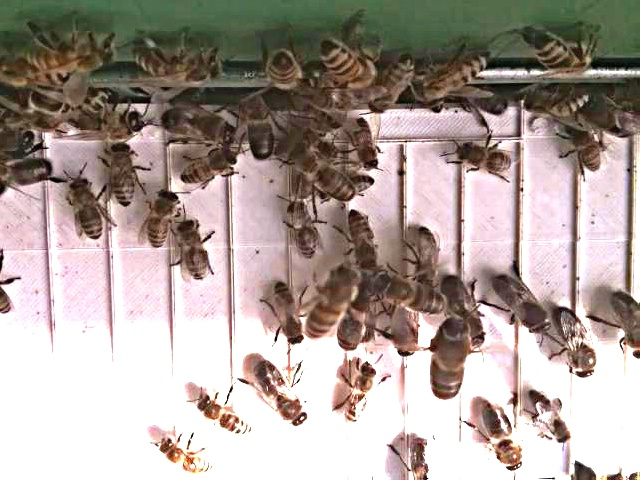Drone: (289, 146, 359, 207), (252, 359, 310, 431), (488, 273, 551, 336), (429, 315, 474, 403), (439, 274, 488, 350), (479, 399, 526, 475), (553, 307, 600, 382), (156, 106, 238, 148), (374, 274, 450, 319), (239, 89, 282, 165), (608, 287, 640, 363)
Worker: (306, 268, 358, 344), (66, 174, 108, 243), (178, 145, 238, 191), (142, 188, 183, 252), (342, 360, 380, 428), (198, 394, 254, 440), (178, 216, 214, 287), (286, 198, 324, 264), (528, 389, 570, 448), (107, 142, 142, 212), (344, 209, 382, 272), (454, 140, 515, 179), (271, 279, 305, 348), (159, 436, 215, 477), (567, 121, 606, 179), (407, 227, 444, 286), (352, 116, 384, 176)
